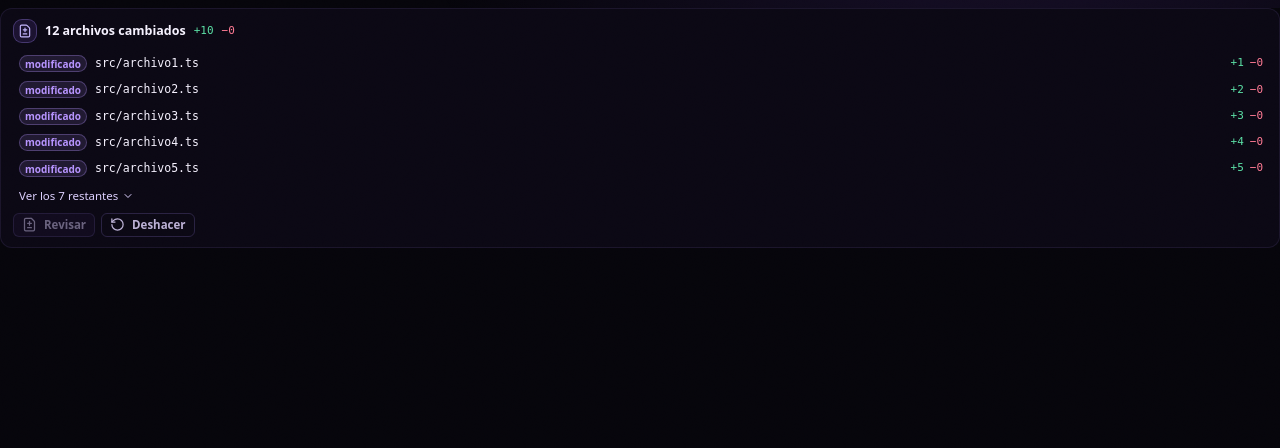
Scenario: shows the first files and «Ver los N restantes», which unfolds and folds back
The image size is (1280, 448).
Expected: the number of buttons with class "turn-changes-file" is 5, [13,51,1269,76]; [13,77,1269,103]; [13,104,1269,129]; [13,130,1269,155]; [13,156,1269,181]
Click the button "Ver los 7 restantes": coordinates (77, 196) [19,187,134,205]
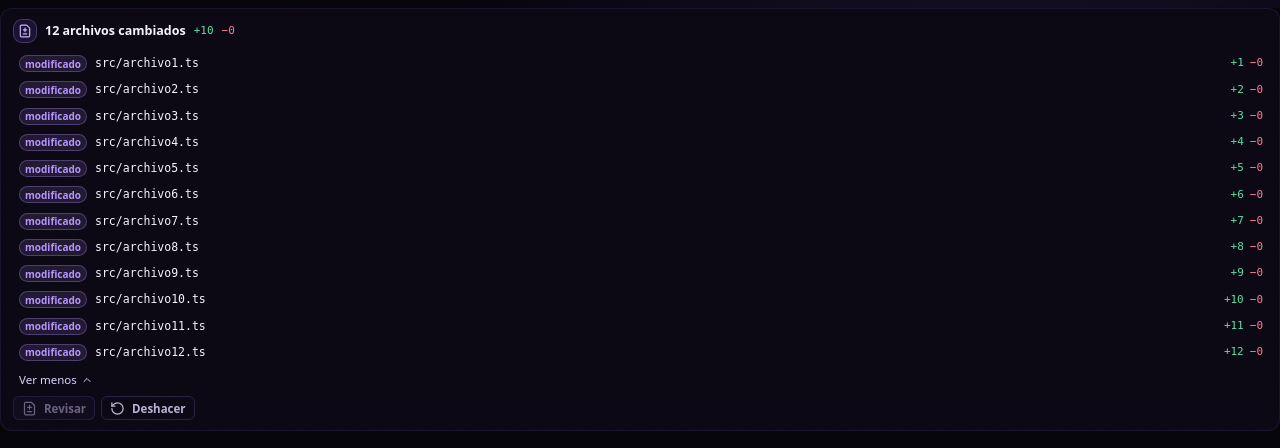
Expected: the number of buttons with class "turn-changes-file" is 12
Click the button "Ver menos": coordinates (56, 380) [19,371,93,388]
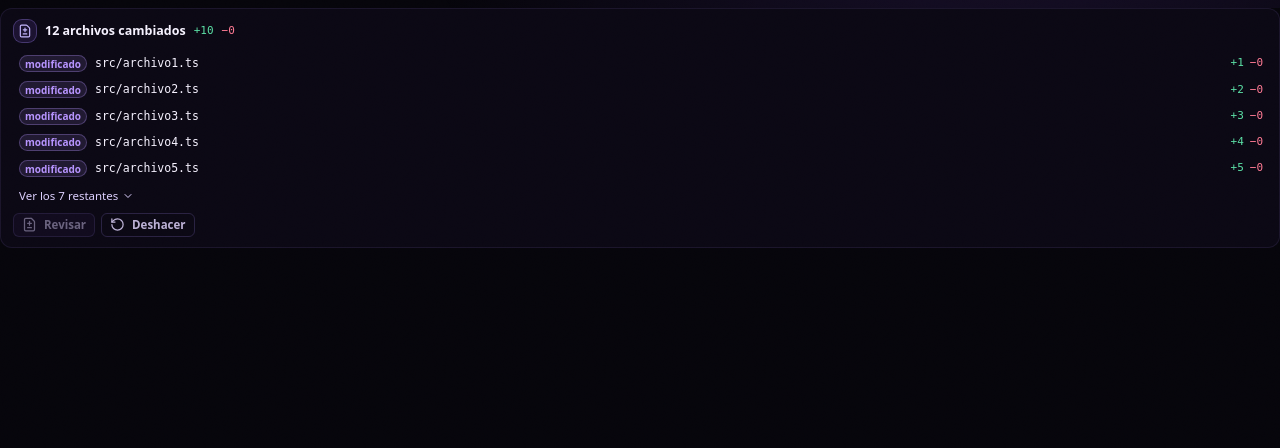
Expected: the number of buttons with class "turn-changes-file" is 5, [13,51,1269,76]; [13,77,1269,103]; [13,104,1269,129]; [13,130,1269,155]; [13,156,1269,181]
